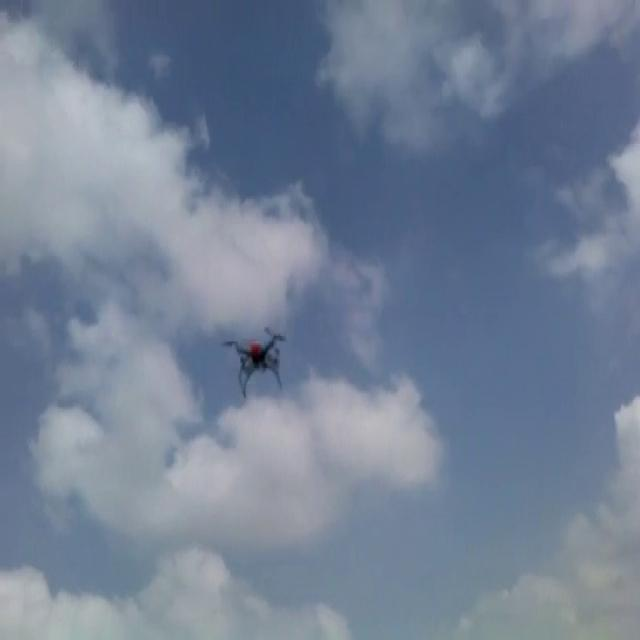drone: (220, 324, 286, 396)
